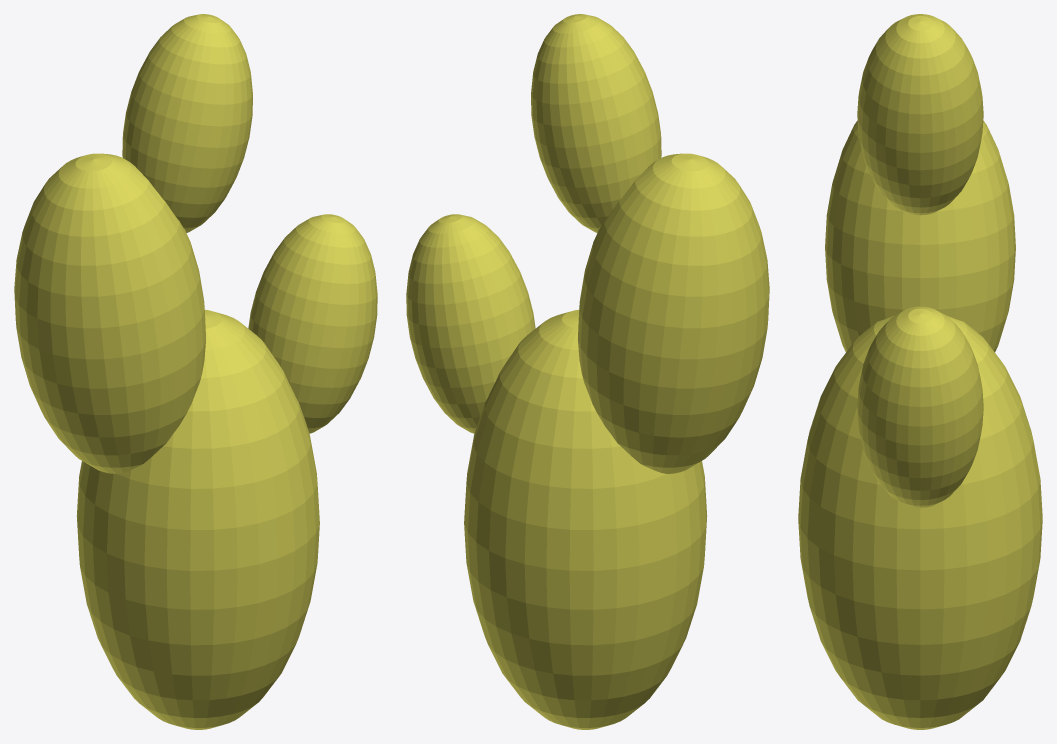
The model's file is Cactus.fbx.
The picture shows the model from 3 angles, left to right: view 1: azimuth 30°, elevation 25°; view 2: azimuth 150°, elevation 25°; view 3: azimuth 270°, elevation 25°; orthographic projection.
Parts seen in each view (by area): view 1: Cactus; view 2: Cactus; view 3: Cactus.
Boxes of the visible parts, x1=… form: Cactus: x1=14, y1=14, x2=377, y2=729; Cactus: x1=406, y1=14, x2=769, y2=729; Cactus: x1=798, y1=14, x2=1042, y2=729.
Bounding box in the file's own units: 16.43 × 32.27 × 10.1.
